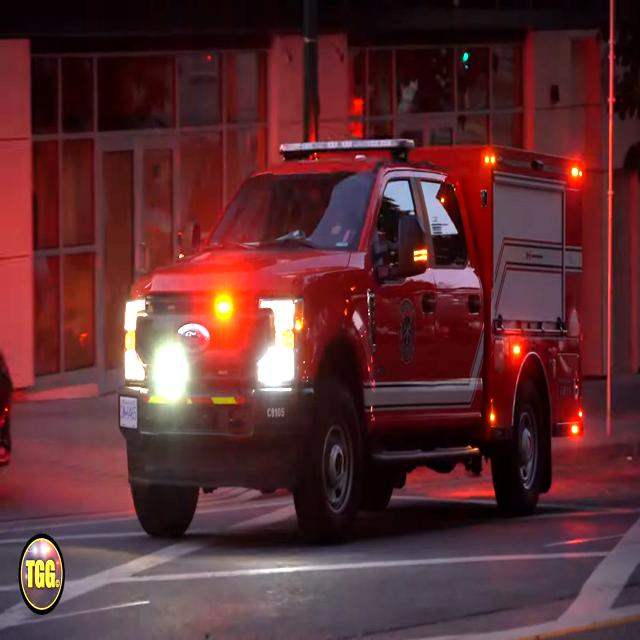emergency-vehicles: (96, 104, 581, 547)
